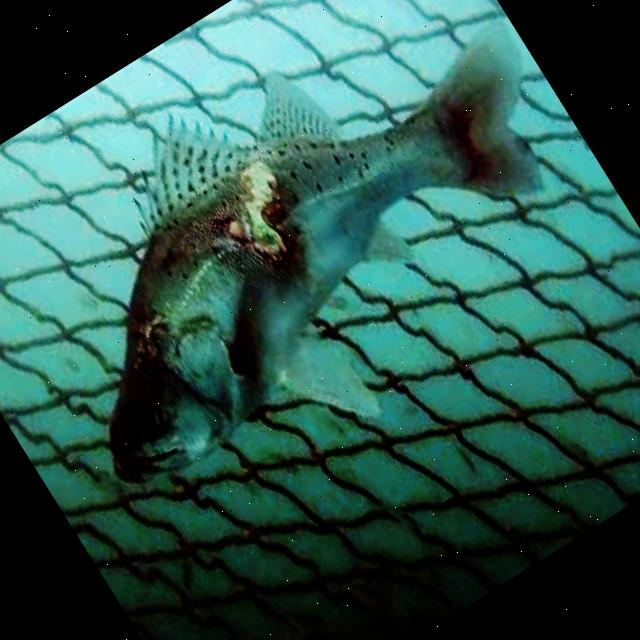Epizootic Ulcerative Syndrome -EUS-: (109, 28, 538, 481)
